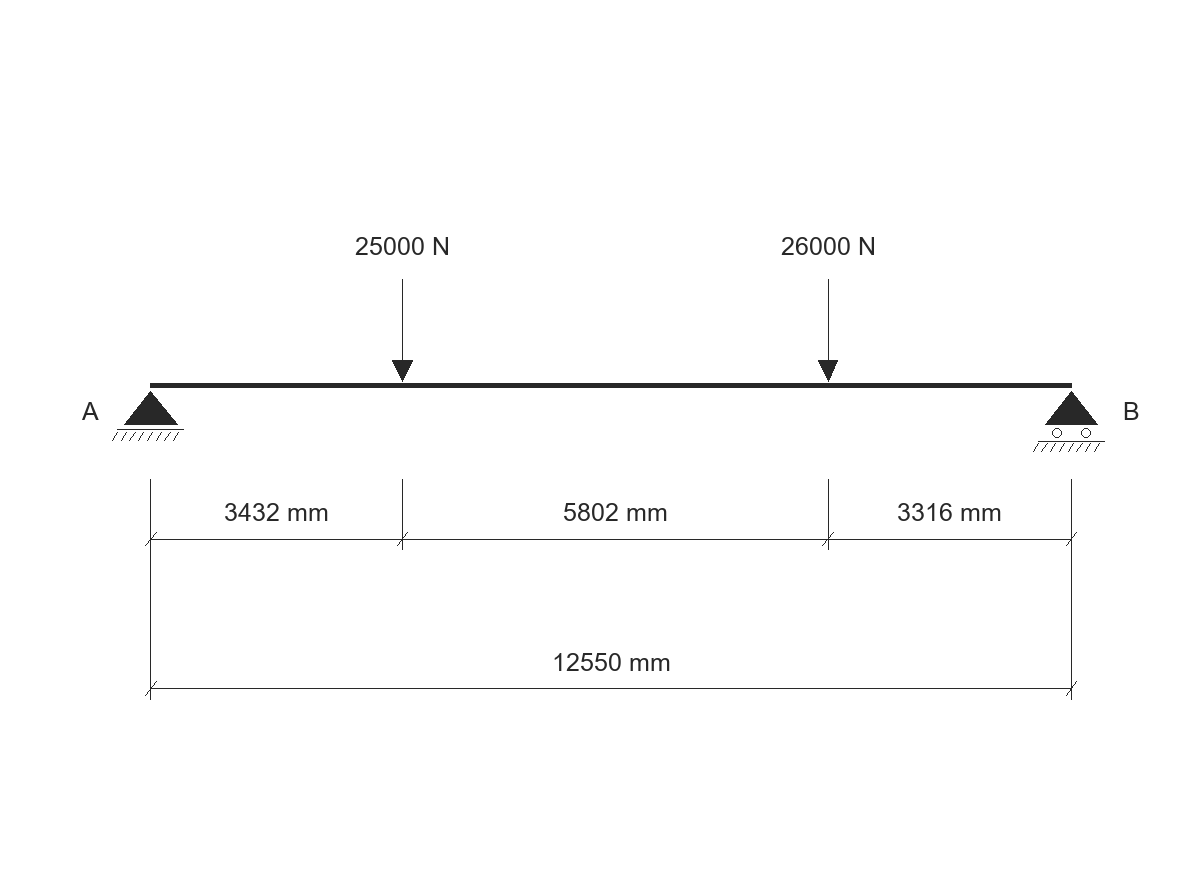pin_support: (112, 391, 184, 441)
point_load: (392, 279, 413, 382), (818, 279, 838, 382)
roller_support: (1033, 391, 1105, 452)
